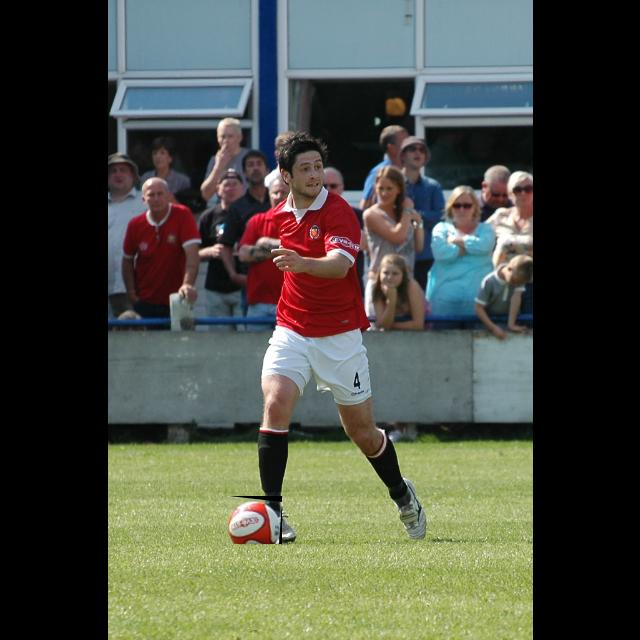Football: (228, 496, 282, 544)
